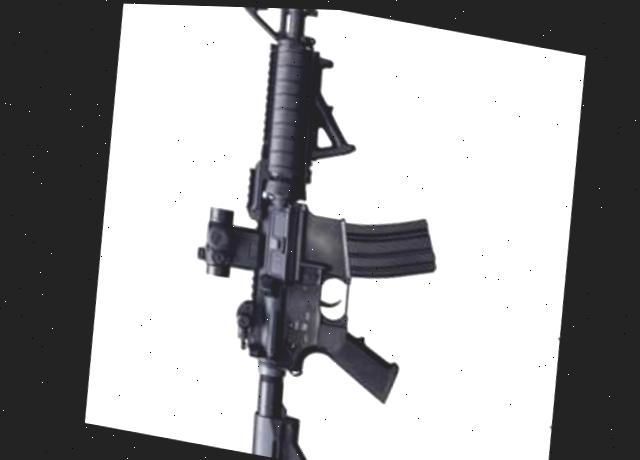rifle: (132, 3, 487, 460)
